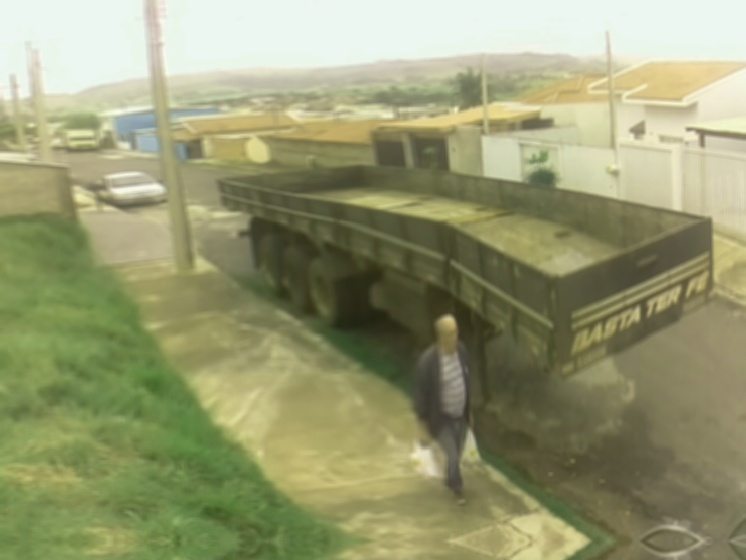person: (410, 314, 475, 505)
